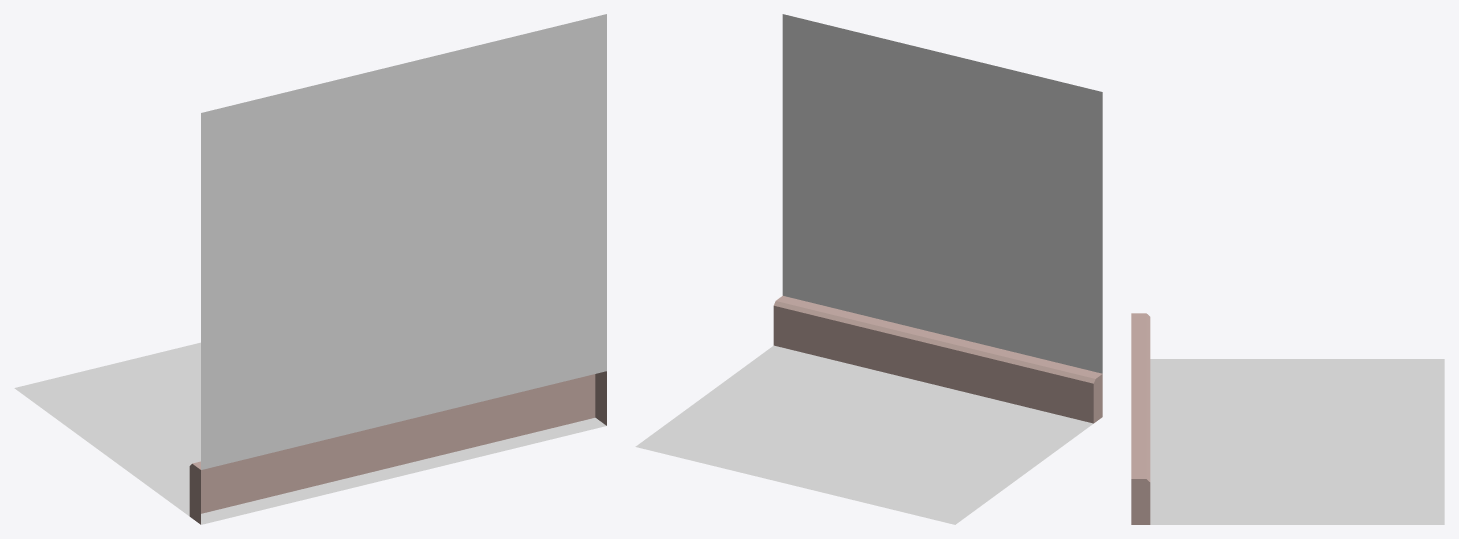
Rendered from Back2.fbx.
The picture shows the model from 3 angles, left to right: view 1: azimuth 30°, elevation 25°; view 2: azimuth 150°, elevation 25°; view 3: azimuth 270°, elevation 25°; orthographic projection. The views are drawn at different scales.
Visible parts, largest first — view 1: Room; view 2: Room; view 3: Room.
Part boxes in pixels (bbox=[...]): Room: bbox=[14, 14, 606, 524]; Room: bbox=[635, 14, 1102, 524]; Room: bbox=[1131, 313, 1444, 524].
Bounding box in the file's own units: 8419 × 8168 × 6720.
